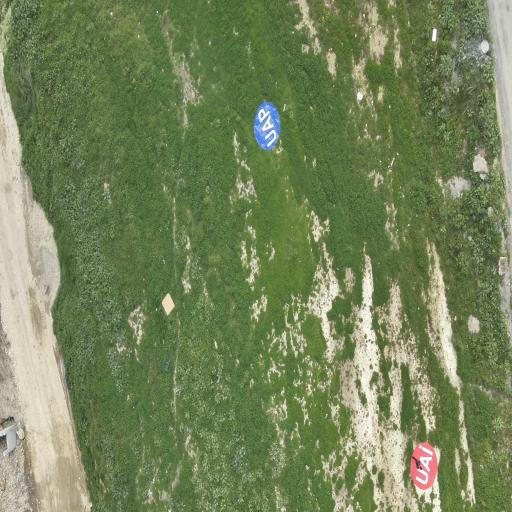UAI: (411, 443, 437, 489)
UAP: (254, 102, 279, 150)
person: (412, 456, 420, 469)
